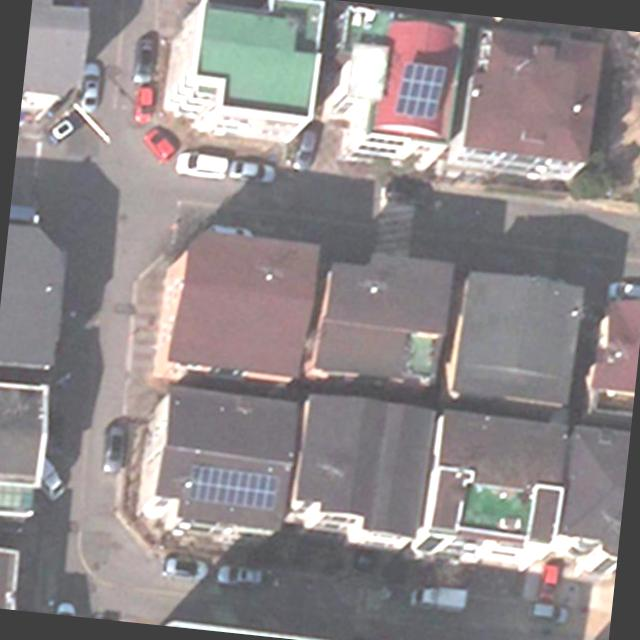solar: (183, 462, 282, 512), (392, 59, 451, 124)
